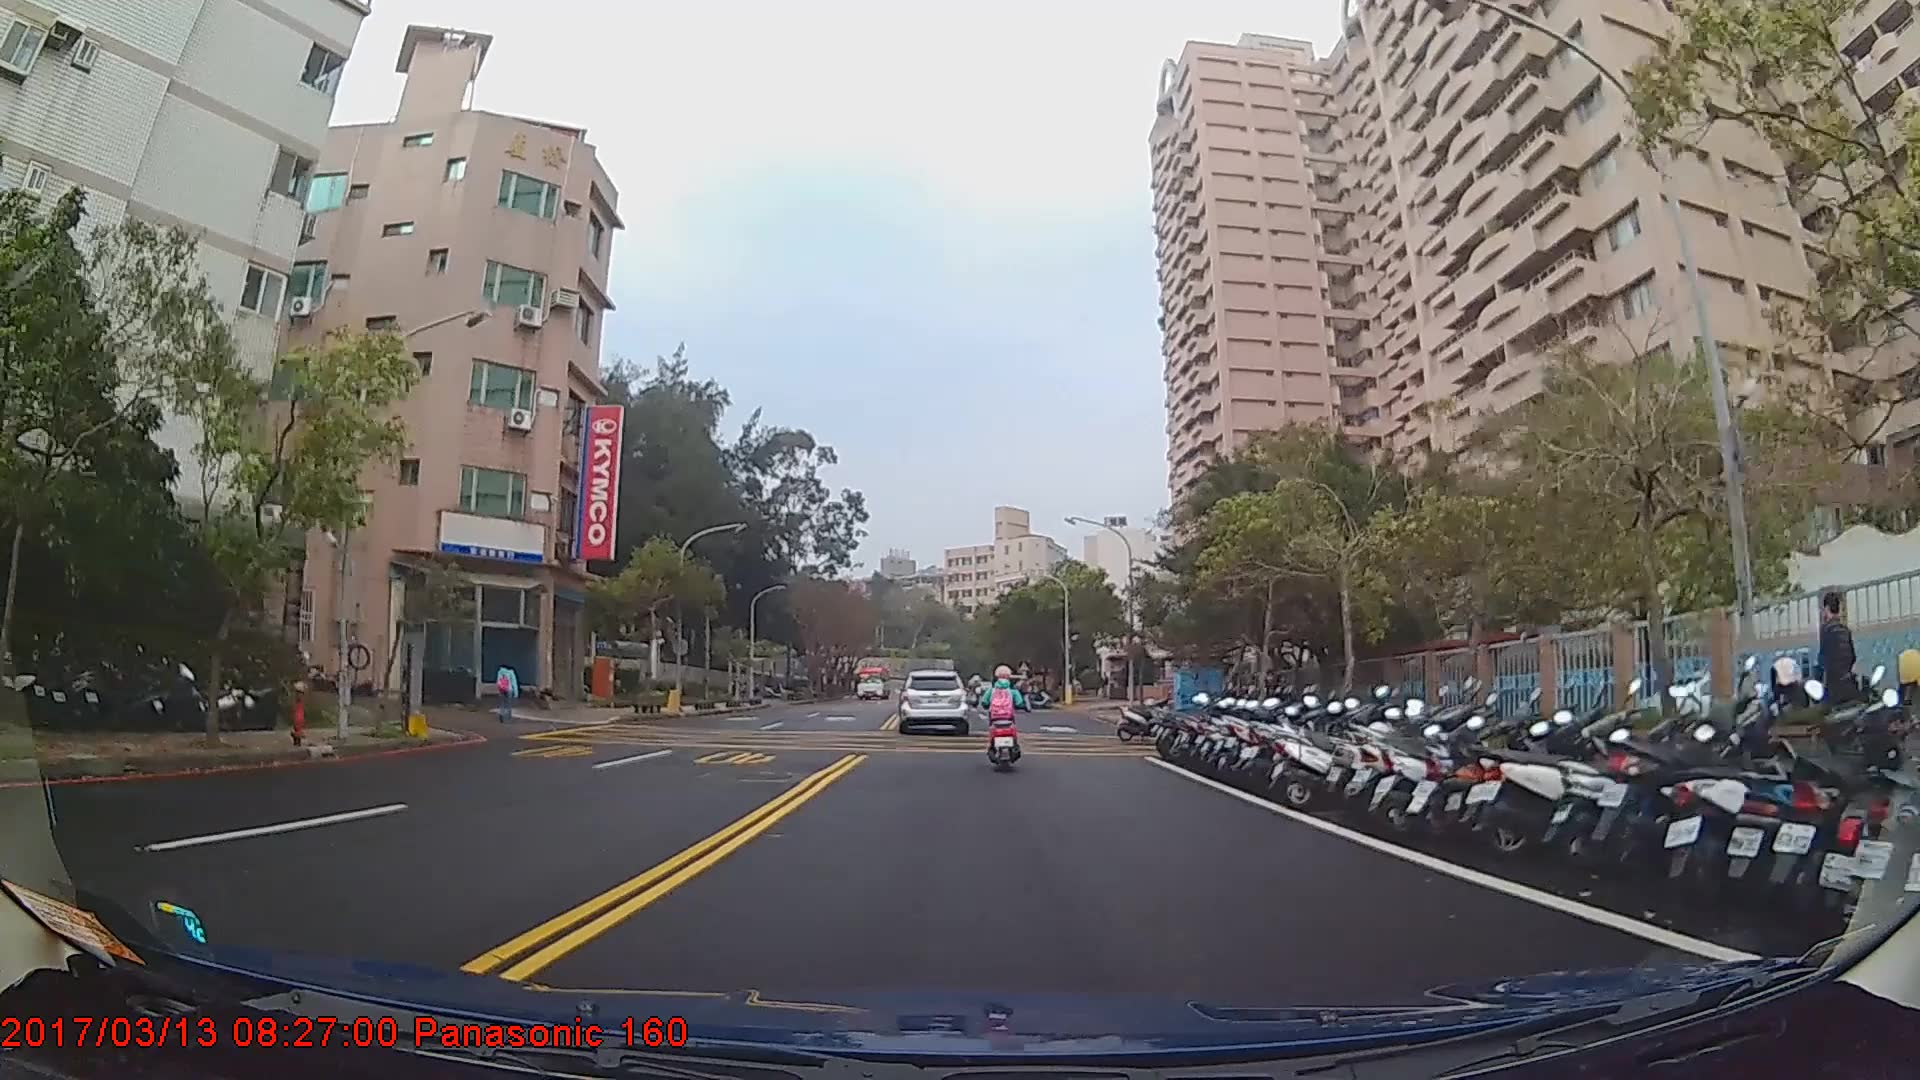pedestrian: (1810, 590, 1863, 772), (495, 656, 520, 724)
rider: (976, 663, 1026, 776)
vehicle: (898, 669, 969, 735), (851, 666, 890, 702)
